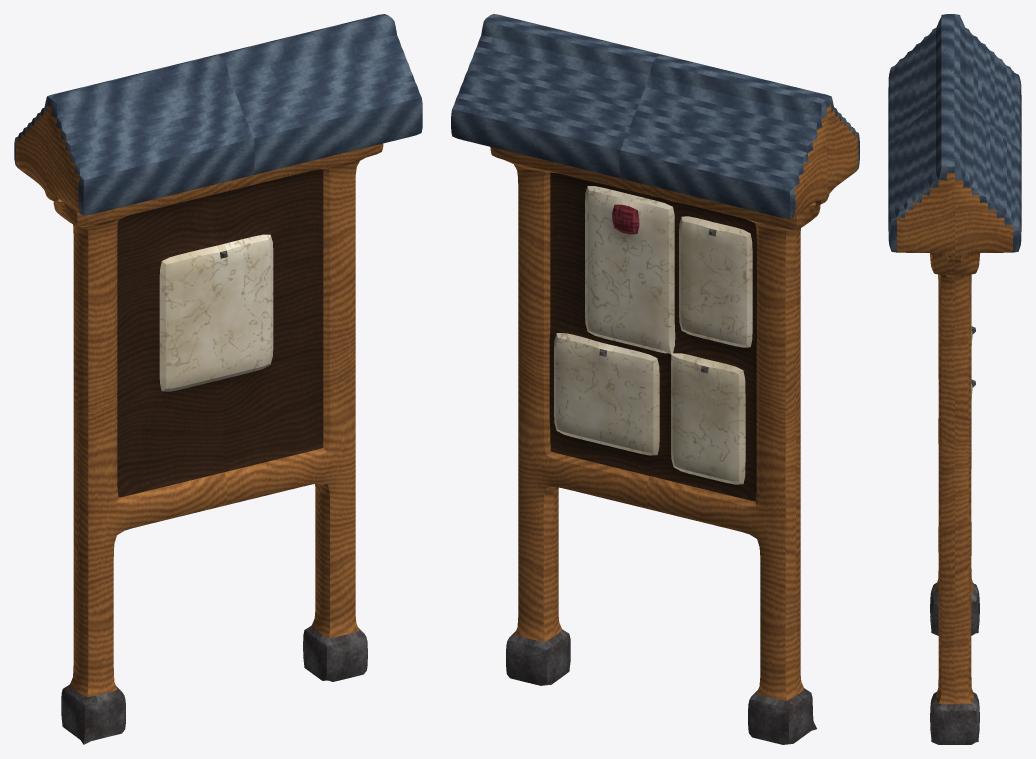
File: prop_village_noticeboard.glb
The picture shows the model from 3 angles, left to right: view 1: azimuth 30°, elevation 25°; view 2: azimuth 150°, elevation 25°; view 3: azimuth 270°, elevation 25°; orthographic projection. The views are drawn at different scales.
Parts seen in each view (by area): view 1: town_prop_village_noticeboard; view 2: town_prop_village_noticeboard; view 3: town_prop_village_noticeboard.
Boxes of the visible parts, left/top/right/bottom form: town_prop_village_noticeboard: left=14, top=14, right=422, bottom=744; town_prop_village_noticeboard: left=451, top=14, right=859, bottom=744; town_prop_village_noticeboard: left=888, top=14, right=1021, bottom=744.
Size of the model in its own units: 1.1 by 1.97 by 0.3998.
1 material, 1 textured.
